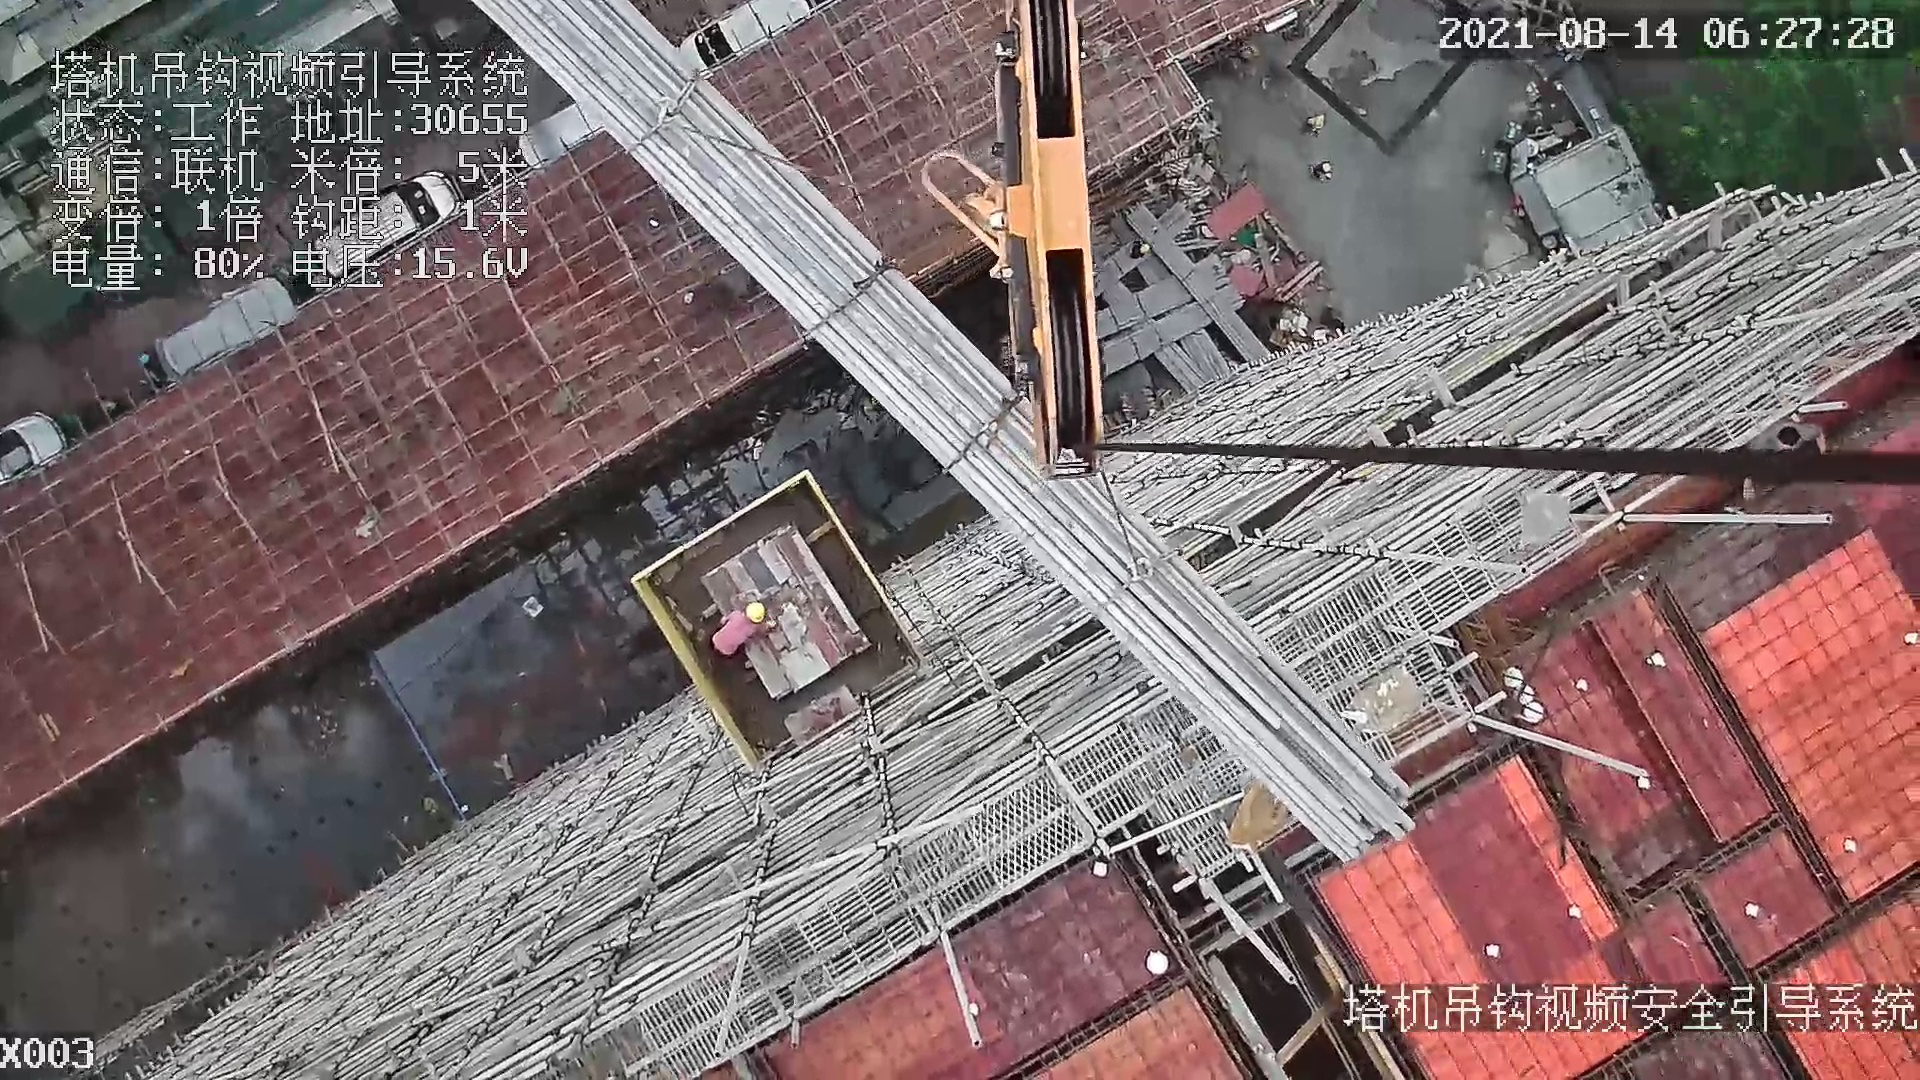helmet: (742, 596, 768, 626)
hook: (988, 1, 1106, 478)
person: (709, 600, 774, 660)
